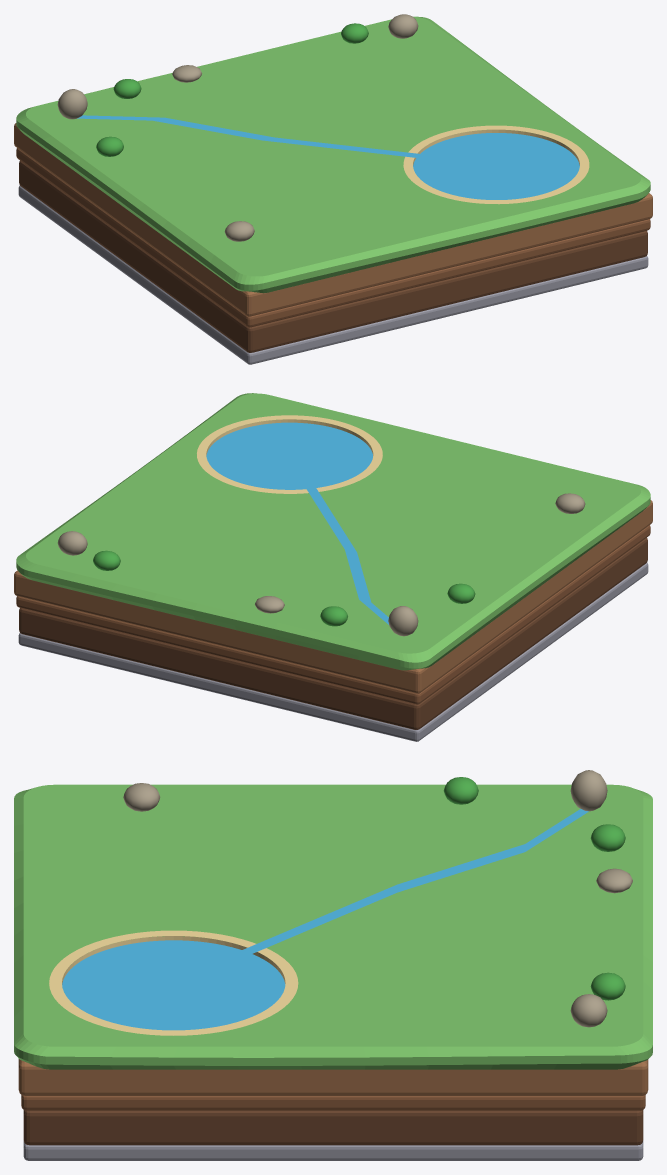
The model's file is island_present.glb.
3 views of the same model, one above another, from view 1: azimuth 30°, elevation 25°; view 2: azimuth 150°, elevation 25°; view 3: azimuth 270°, elevation 25° (orthographic). The views are drawn at different scales.
Parts seen in each view (by area): view 1: Top, Sides, Water, Deco; view 2: Top, Sides, Water, Deco; view 3: Top, Sides, Water, Deco.
Part boxes in pixels (x1,y1,x2,y2): Top: (16, 16, 650, 293); Sides: (14, 123, 652, 364); Water: (413, 133, 579, 199); Deco: (57, 14, 418, 241); Top: (16, 393, 650, 670); Sides: (14, 500, 652, 741); Water: (206, 422, 372, 489); Deco: (57, 493, 585, 636); Top: (14, 784, 652, 1069); Sides: (18, 1059, 648, 1160); Water: (62, 940, 285, 1030); Deco: (123, 770, 632, 1027).
Size of the model in its own units: 20 by 5.24 by 20.
